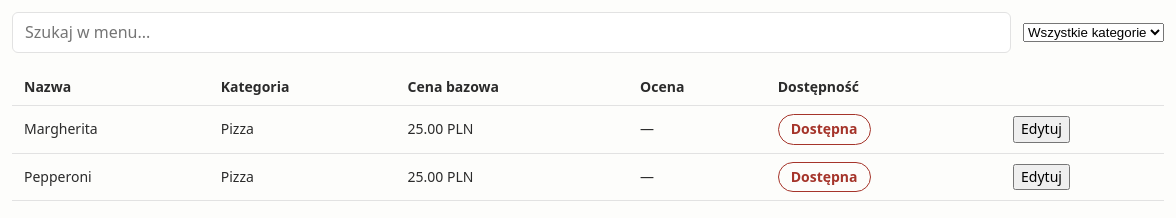
Test: MenuItemList › filters by name, case-insensitively
Type "pepper" into the search field labelled "Szukaj w menu" at (512, 33), box [12,12,1011,53]
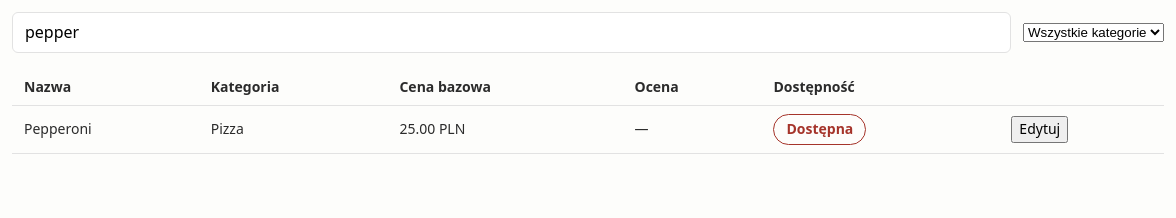
Expected: the text "Pepperoni" is shown, [12,106,199,153]
Now the text "Margherita" is gone
